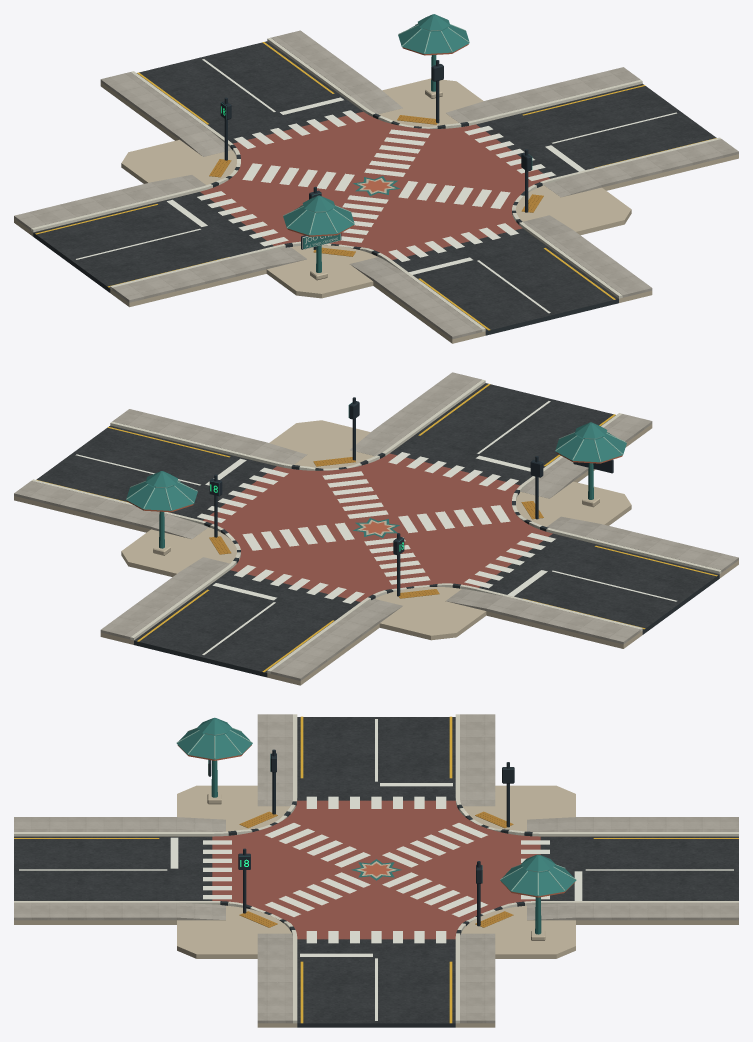
The picture shows the model from 3 angles, top to bottom: view 1: azimuth 30°, elevation 25°; view 2: azimuth 150°, elevation 25°; view 3: azimuth 270°, elevation 25°; orthographic projection. The views are drawn at different scales.
Parts seen in each view (by area): view 1: Intersection wearing course, Approach footway slabs, All walk conflict zone, Corner bases, Ramped kerb noses, Diagonal zebra stripes, Pagoda shade roofs, Perimeter zebra stripes, Kerbside restrictions, Vehicle stop lines, Approach dividers, Tactile landings (+3 smaller); view 2: Intersection wearing course, All walk conflict zone, Approach footway slabs, Corner bases, Ramped kerb noses, Diagonal zebra stripes, Pagoda shade roofs, Perimeter zebra stripes, Kerbside restrictions, Vehicle stop lines, Tactile landings, Approach dividers (+3 smaller); view 3: Intersection wearing course, All walk conflict zone, Approach footway slabs, Corner bases, Ramped kerb noses, Diagonal zebra stripes, Pagoda shade roofs, Perimeter zebra stripes, Kerbside restrictions, Vehicle stop lines, Tactile landings, Approach dividers (+3 smaller).
Part boxes in pixels (box(x1,y1,x2,y2)): Intersection wearing course: box(33, 41, 716, 335); Approach footway slabs: box(14, 30, 738, 339); All walk conflict zone: box(200, 111, 550, 259); Corner bases: box(14, 54, 738, 343); Ramped kerb noses: box(31, 38, 721, 331); Diagonal zebra stripes: box(242, 129, 510, 242); Pagoda shade roofs: box(283, 14, 469, 236); Perimeter zebra stripes: box(197, 110, 555, 261); Kerbside restrictions: box(35, 42, 716, 330); Vehicle stop lines: box(167, 97, 584, 274); Approach dividers: box(76, 59, 676, 313); Tactile landings: box(209, 115, 543, 256); Intersection wearing course: box(36, 383, 719, 677); All walk conflict zone: box(203, 453, 552, 601); Approach footway slabs: box(14, 372, 738, 680); Corner bases: box(14, 383, 738, 685); Ramped kerb noses: box(31, 379, 721, 673); Diagonal zebra stripes: box(242, 471, 510, 584); Pagoda shade roofs: box(126, 422, 626, 512); Perimeter zebra stripes: box(197, 452, 555, 603); Kerbside restrictions: box(36, 384, 717, 672); Vehicle stop lines: box(205, 455, 547, 600); Tactile landings: box(209, 457, 543, 598); Approach dividers: box(75, 401, 676, 654); Intersection wearing course: box(14, 717, 738, 1027); All walk conflict zone: box(212, 800, 540, 939); Approach footway slabs: box(14, 714, 738, 1023); Corner bases: box(14, 785, 738, 1027); Ramped kerb noses: box(14, 714, 738, 1023); Diagonal zebra stripes: box(265, 823, 487, 916); Pagoda shade roofs: box(176, 717, 576, 897); Perimeter zebra stripes: box(203, 796, 549, 943); Kerbside restrictions: box(14, 716, 738, 1023); Vehicle stop lines: box(170, 783, 582, 956); Tactile landings: box(239, 811, 513, 927); Approach dividers: box(19, 719, 733, 1020).
Bounding box in the file's own units: 32 × 4.27 × 32.
16 materials, 2 textured.
